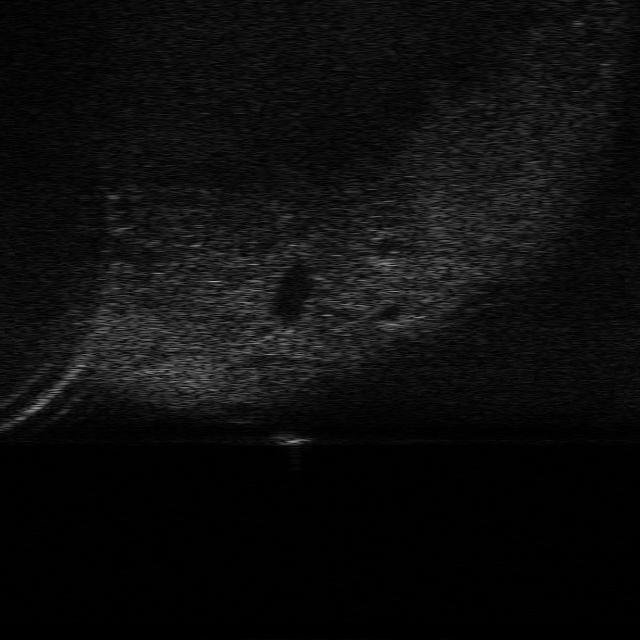cube: (270, 428, 319, 446)
